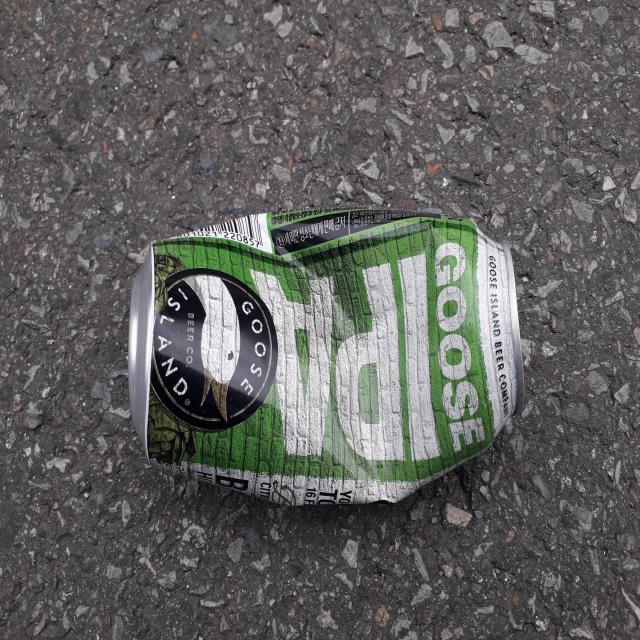can: (128, 208, 525, 506)
